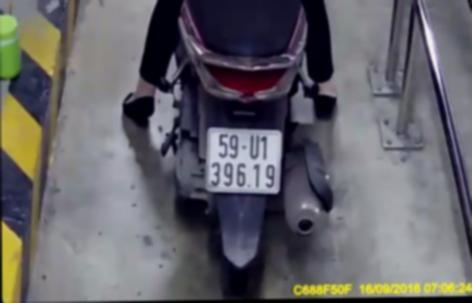License_Plate: (195, 121, 293, 200)
